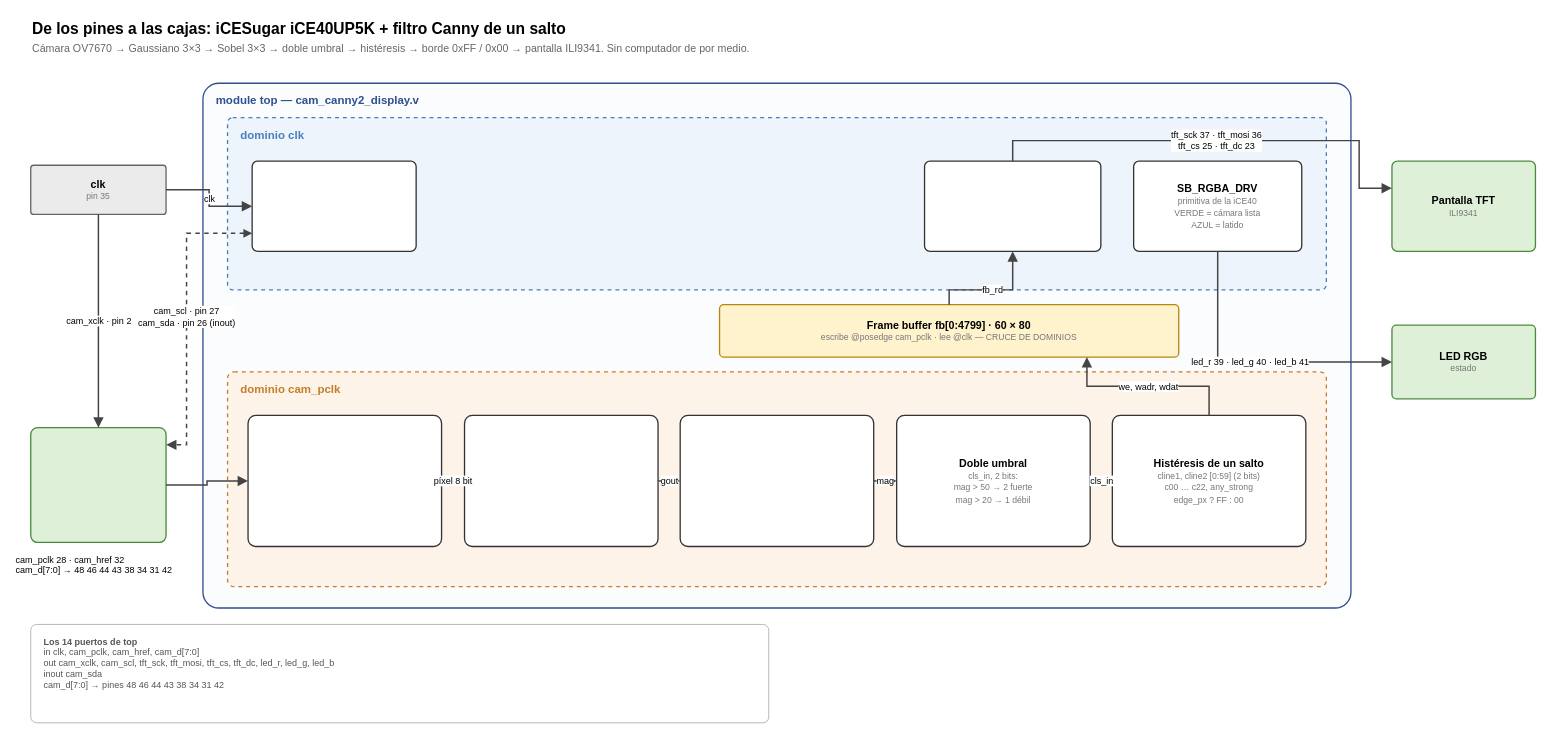
This 1550x737 diagram has some shape labels left out. Each missing label, with the centre of its shape:
"Configuración SCCB escribe los registros de la cámara al arrancar" goes at point 333,206.
"Controlador ILI9341 spi_start, spi_byte, spi_dcbit, spi_done" goes at point 1012,206.
"Cámara OV7670 módulo externo" goes at point 98,485.
"Gaussiano 3×3 gline1, gline2 [0:59] g00 … g22 gout = gsum[11:4] (÷16)" goes at point 560,480.
"Sobel 3×3 sline1, sline2 [0:59] s00 … s22 mag = sat(agx + agy)" goes at point 776,480.
"Submuestreo a 60 × 80 href_d, parity, curY, colkeep, rowkeep, fbx, waddr_wr" goes at point 344,480.
